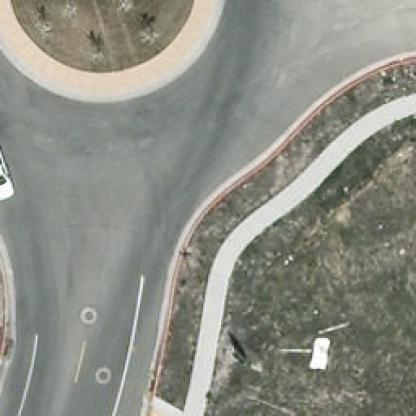car: (0, 138, 16, 202)
